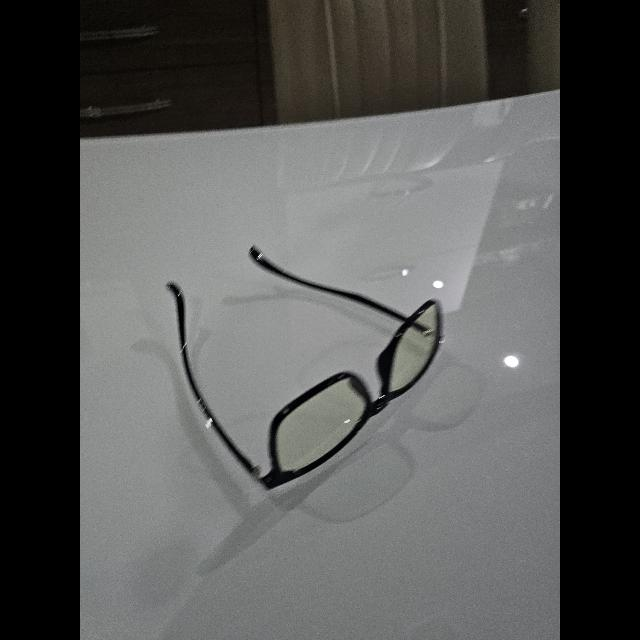glasses: (166, 247, 442, 489)
